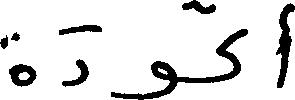X: (114, 56, 175, 99), (0, 27, 34, 91), (63, 20, 87, 91), (218, 24, 245, 86), (276, 0, 294, 92)
